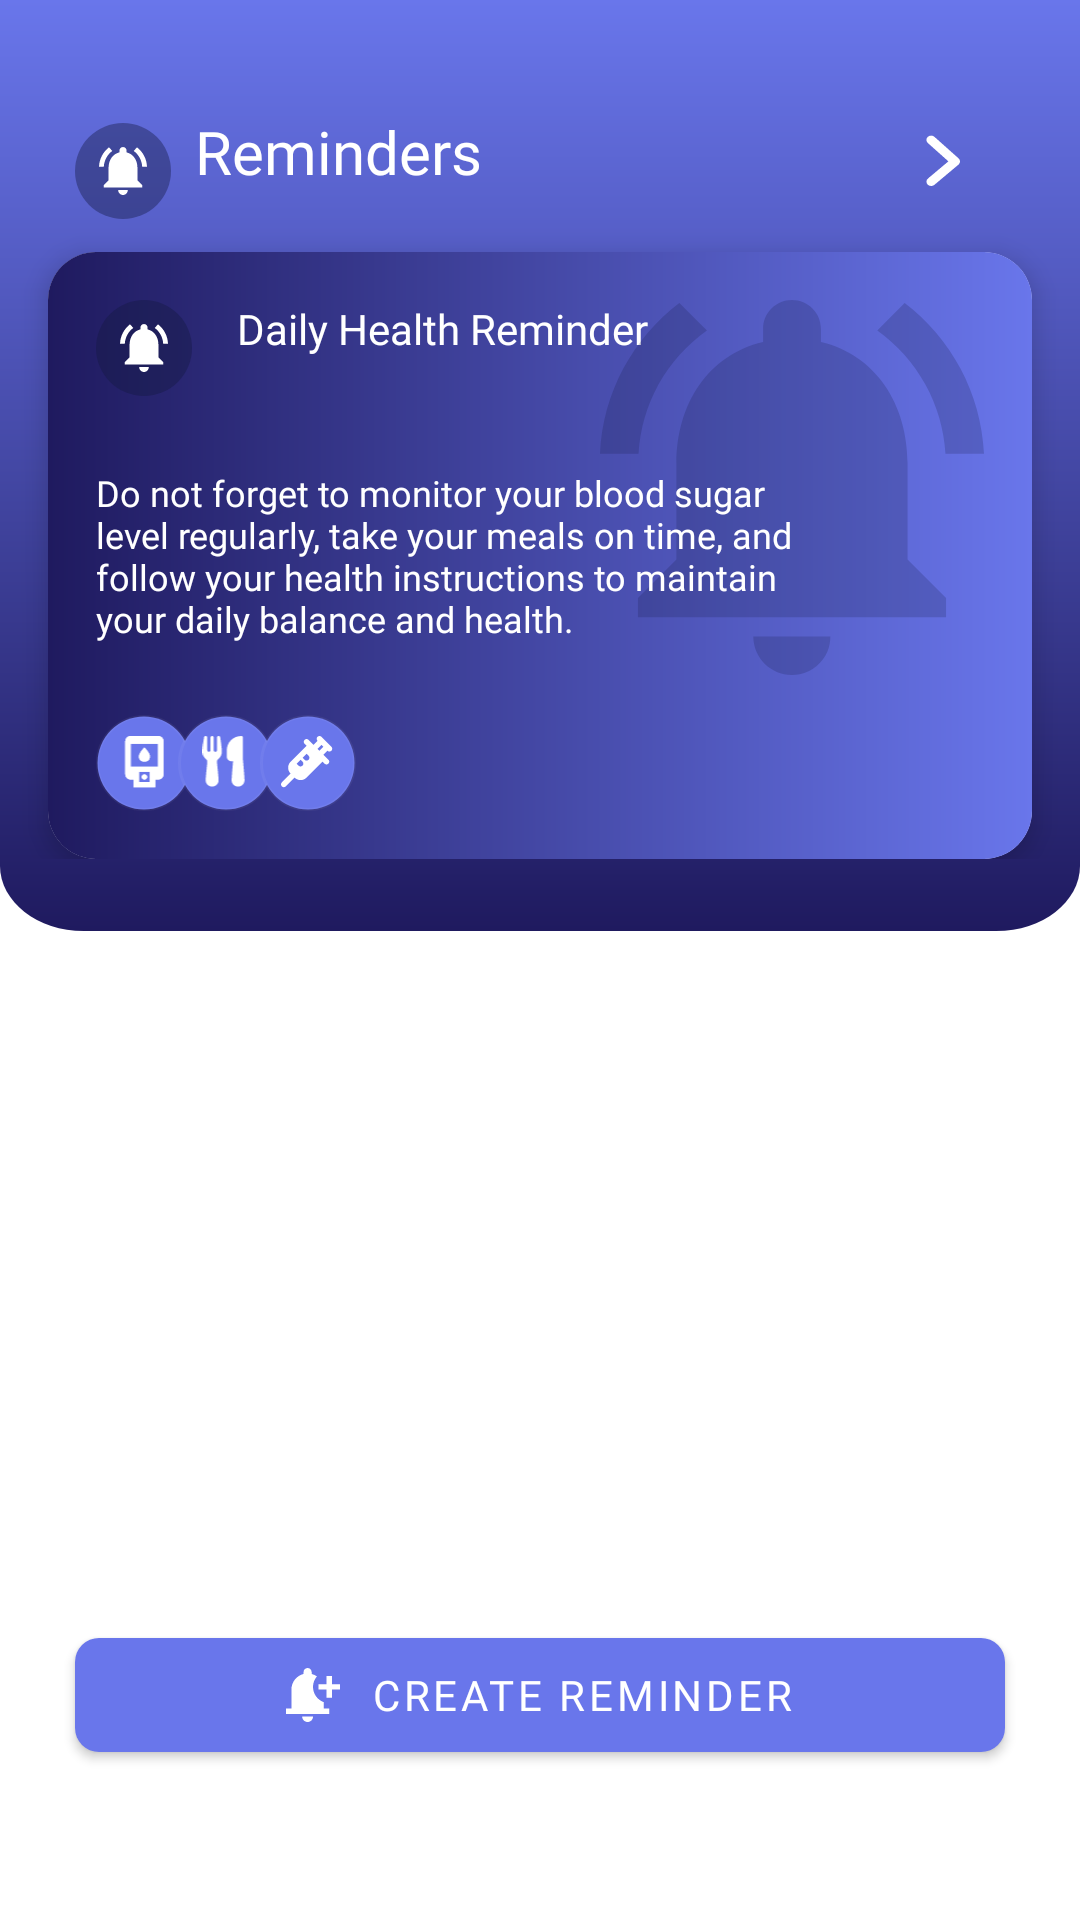

Where to tap for icons on this 1080×1920 app screen, as [x,y]:
glucose size: [144,763]
meal size: [226,763]
medicine size: [307,763]
